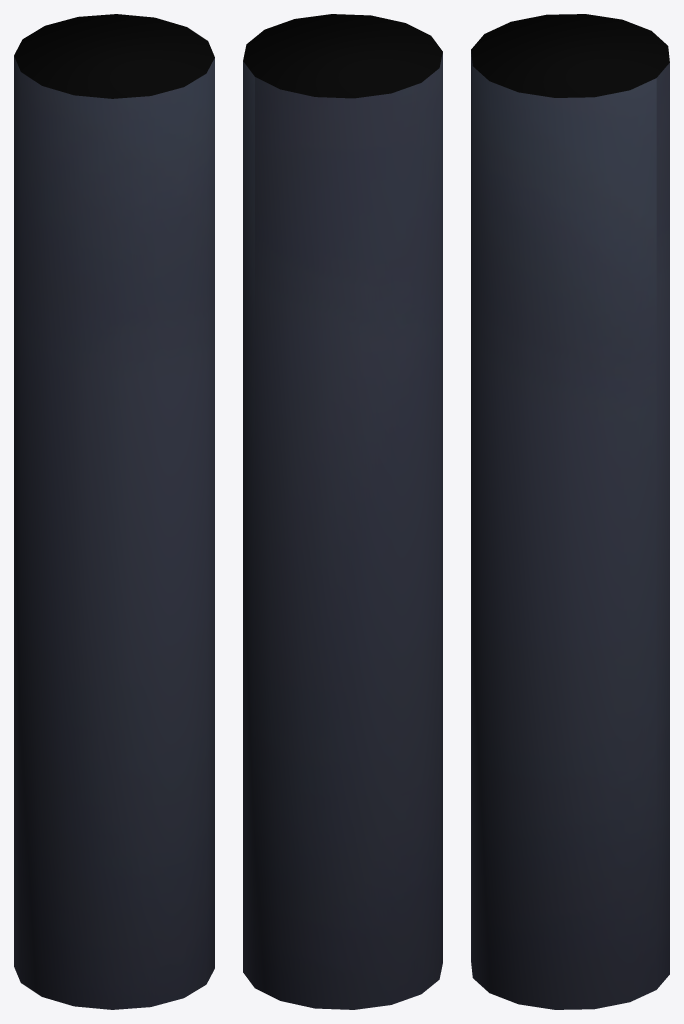
File: Pilastra.fbx
The picture shows the model from 3 angles, left to right: view 1: azimuth 30°, elevation 25°; view 2: azimuth 150°, elevation 25°; view 3: azimuth 270°, elevation 25°; orthographic projection.
Parts seen in each view (by area): view 1: Pilastra; view 2: Pilastra; view 3: Pilastra.
Part boxes in pixels (x1,y1,x2,y2): Pilastra: (14,14,214,1009); Pilastra: (243,14,442,1009); Pilastra: (471,14,669,1009).
Bounding box in the file's own units: 86.52 × 86.52 × 438.
